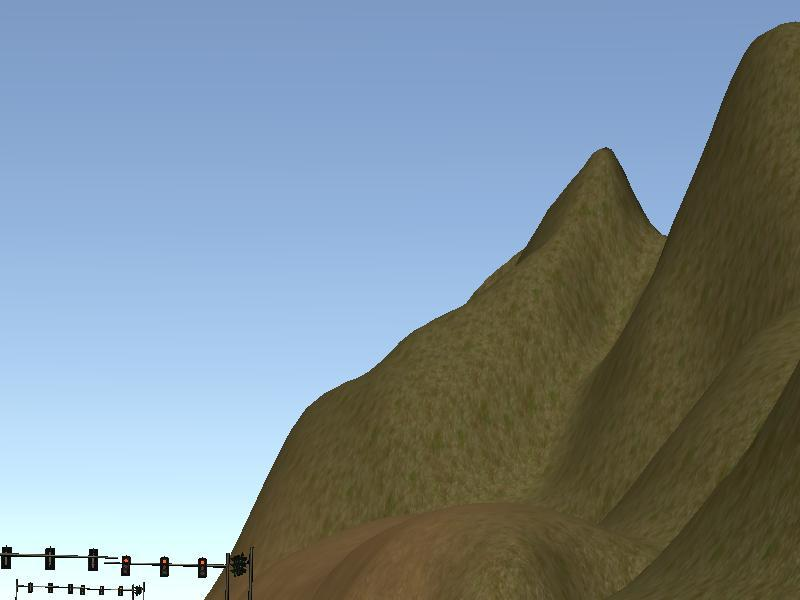Red: (120, 555, 131, 578), (159, 555, 169, 578), (197, 556, 207, 579)
